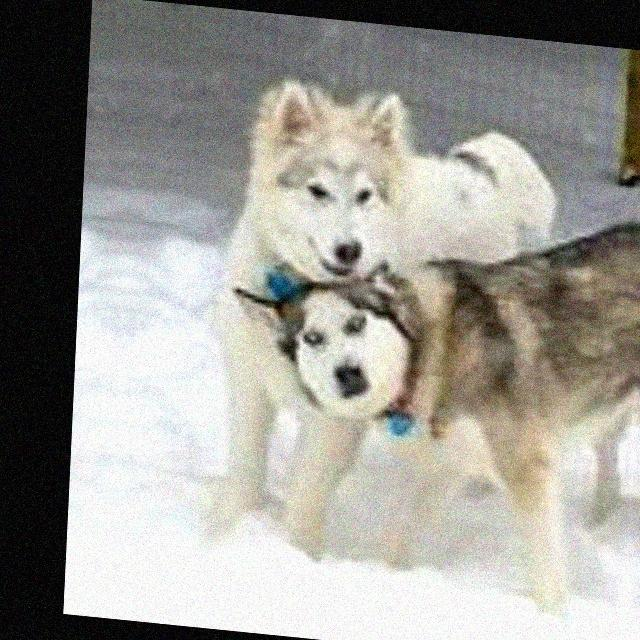dog: (267, 198, 640, 474), (189, 101, 563, 300)
